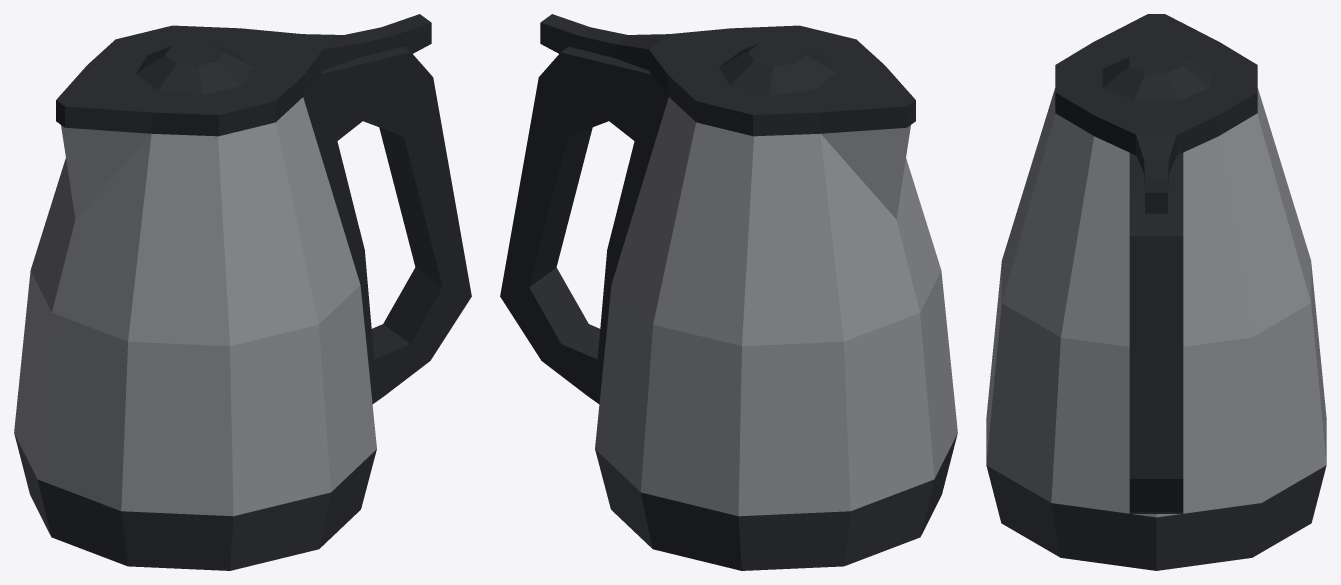
File: SM_Prop_Kettle_01.glb
3 renders of one model, left to right at view 1: azimuth 30°, elevation 25°; view 2: azimuth 150°, elevation 25°; view 3: azimuth 270°, elevation 25°, orthographic.
Parts seen in each view (by area): view 1: SM_Prop_Kettle_01; view 2: SM_Prop_Kettle_01; view 3: SM_Prop_Kettle_01.
Boxes of the visible parts, <box> form: SM_Prop_Kettle_01: <box>14,14,471,570</box>; SM_Prop_Kettle_01: <box>500,14,957,570</box>; SM_Prop_Kettle_01: <box>986,14,1326,570</box>.
Bounding box in the file's own units: 0.3885 × 0.396 × 0.2776.
2 materials, 2 textured.
